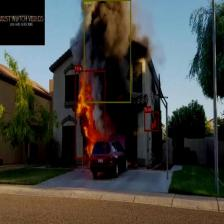fire: (75, 70, 105, 159), (144, 111, 159, 131)
smoke: (84, 0, 131, 102)
